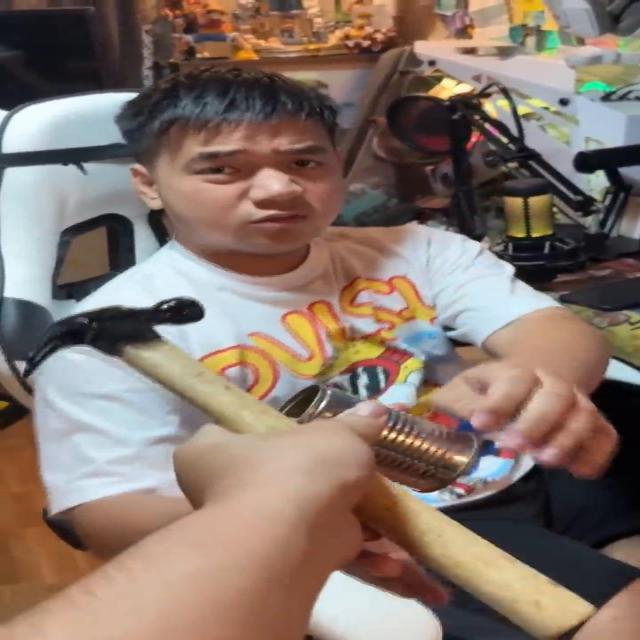hammer: (21, 296, 601, 639)
